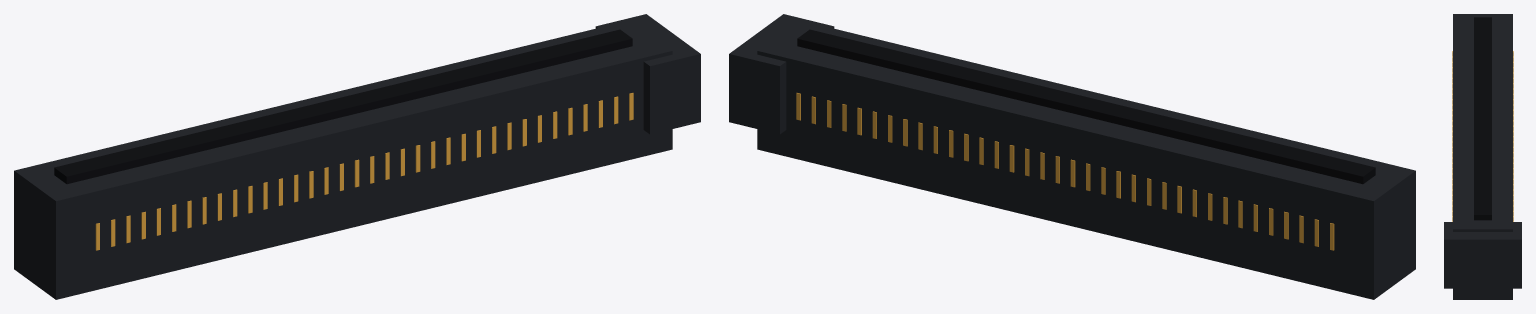
The model's file is 120_L106_PCIe_Socket_Detail.fbx.
3 renders of one model, left to right at view 1: azimuth 30°, elevation 25°; view 2: azimuth 150°, elevation 25°; view 3: azimuth 270°, elevation 25°, orthographic. The views are drawn at different scales.
Parts seen in each view (by area): view 1: 120_L106_PCIe_Socket_Detail_000, 120_L106_PCIe_Socket_Detail_001, 120_L106_PCIe_Socket_Detail_074; view 2: 120_L106_PCIe_Socket_Detail_000, 120_L106_PCIe_Socket_Detail_001, 120_L106_PCIe_Socket_Detail_074; view 3: 120_L106_PCIe_Socket_Detail_000, 120_L106_PCIe_Socket_Detail_074, 120_L106_PCIe_Socket_Detail_001.
Boxes of the visible parts, x1,y1,x2,y2 form: 120_L106_PCIe_Socket_Detail_000: (14, 20, 672, 299); 120_L106_PCIe_Socket_Detail_001: (54, 29, 632, 184); 120_L106_PCIe_Socket_Detail_074: (595, 14, 700, 134); 120_L106_PCIe_Socket_Detail_000: (757, 20, 1415, 299); 120_L106_PCIe_Socket_Detail_001: (797, 29, 1375, 184); 120_L106_PCIe_Socket_Detail_074: (729, 14, 834, 134); 120_L106_PCIe_Socket_Detail_000: (1453, 14, 1512, 299); 120_L106_PCIe_Socket_Detail_074: (1444, 222, 1521, 288); 120_L106_PCIe_Socket_Detail_001: (1474, 17, 1491, 220).
Bounding box in the file's own units: 0.088 × 0.013 × 0.014.
